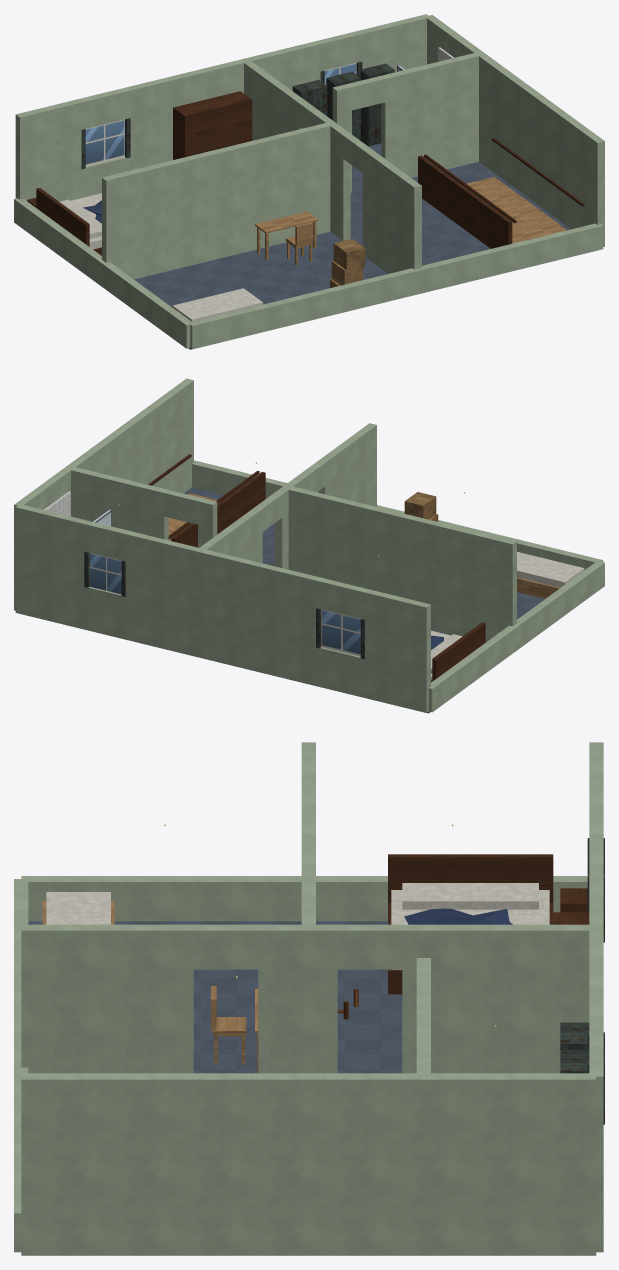
Rendered from KevinHouseUp.fbx.
The picture shows the model from 3 angles, top to bottom: view 1: azimuth 30°, elevation 25°; view 2: azimuth 150°, elevation 25°; view 3: azimuth 270°, elevation 25°; orthographic projection. The views are drawn at different scales.
Visible parts, largest first — view 1: Up_WallBedSplit, Up_WallN, Up_WallE, Up_WallBeds, Up_Floor, Up_WallStorage, Up_WallS, Up_WallW, Up_Wardrobe, House_UpRail, House_UpStairs, Up_BedKevin (+9 smaller); view 2: Up_WallN, Up_WallBedSplit, Up_WallE, Up_WallBeds, Up_WallStorage, Up_WallW, Up_WallS, Up_BedSpare, House_UpRail, Up_BedKevin, House_UpWindow0, Up_Floor (+4 smaller); view 3: Up_WallE, Up_WallBeds, Up_WallW, Up_Floor, Up_BedKevin, Up_WallN, Up_WallS, Up_WallBedSplit, Up_BedSpare, Up_WallStorage, Up_DeskChair, Up_StorageShelf0 (+2 smaller).
Boxes of the visible parts, left/top/right/bottom form: Up_WallBedSplit: left=102, top=123, right=333, bottom=279; Up_WallN: left=15, top=14, right=428, bottom=201; Up_WallE: left=425, top=15, right=604, bottom=246; Up_WallBeds: left=242, top=59, right=421, bottom=273; Up_Floor: left=134, top=141, right=570, bottom=349; Up_WallStorage: left=332, top=52, right=478, bottom=192; Up_WallS: left=190, top=223, right=603, bottom=349; Up_WallW: left=14, top=198, right=193, bottom=348; Up_Wardrobe: left=173, top=91, right=252, bottom=159; House_UpRail: left=418, top=155, right=512, bottom=248; House_UpStairs: left=424, top=138, right=584, bottom=243; Up_BedKevin: left=36, top=188, right=101, bottom=255; Up_WallN: left=15, top=504, right=430, bottom=712; Up_WallBedSplit: left=286, top=485, right=516, bottom=642; Up_WallE: left=14, top=378, right=193, bottom=610; Up_WallBeds: left=198, top=423, right=376, bottom=569; Up_WallStorage: left=71, top=467, right=217, bottom=547; Up_WallW: left=428, top=561, right=604, bottom=712; Up_WallS: left=192, top=460, right=603, bottom=569; Up_BedSpare: left=517, top=552, right=584, bottom=598; House_UpRail: left=171, top=472, right=265, bottom=547; Up_BedKevin: left=431, top=622, right=485, bottom=681; House_UpWindow0: left=321, top=609, right=360, bottom=656; Up_Floor: left=184, top=487, right=544, bottom=713; Up_WallE: left=21, top=1073, right=596, bottom=1255; Up_WallBeds: left=21, top=924, right=596, bottom=1073; Up_WallW: left=21, top=876, right=587, bottom=921; Up_Floor: left=21, top=921, right=595, bottom=1255; Up_BedKevin: left=388, top=854, right=553, bottom=994; Up_WallN: left=587, top=742, right=604, bottom=1252; Up_WallS: left=14, top=879, right=28, bottom=1252; Up_WallBedSplit: left=301, top=742, right=315, bottom=927; Up_BedSpare: left=42, top=892, right=114, bottom=924; Up_WallStorage: left=416, top=958, right=430, bottom=1073; Up_DeskChair: left=211, top=986, right=246, bottom=1064; Up_StorageShelf0: left=560, top=1022, right=589, bottom=1049.
Bounding box in the file's own units: 11.2 × 2.75 × 8.22.
